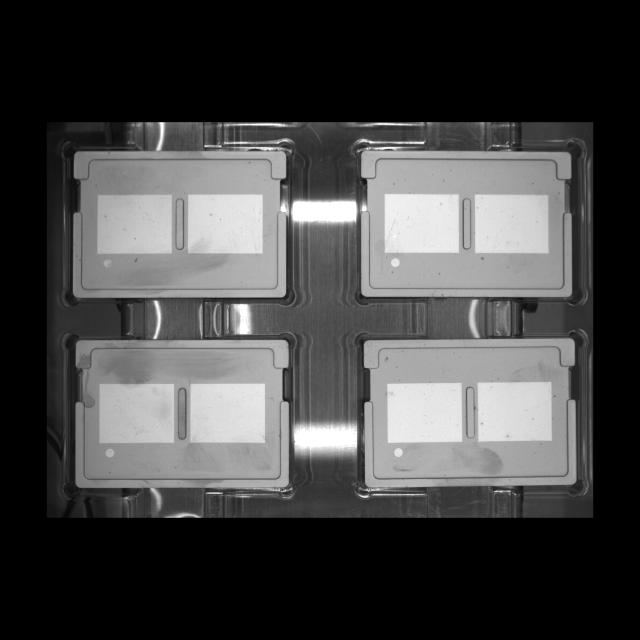product: (60, 136, 312, 312), (58, 329, 301, 502), (352, 138, 589, 310), (352, 329, 590, 499)
